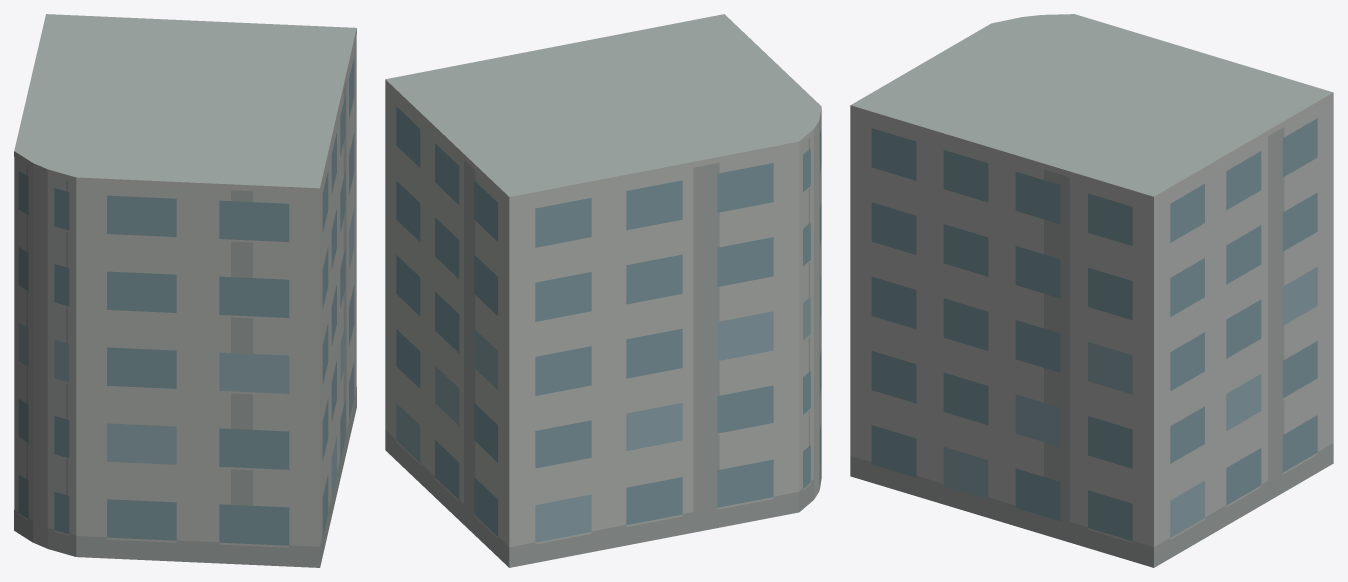
File: survey-upis-32832197.glb
3 renders of one model, left to right at view 1: azimuth 30°, elevation 25°; view 2: azimuth 150°, elevation 25°; view 3: azimuth 270°, elevation 25°, orthographic. The views are drawn at different scales.
Visible parts, largest first — view 1: survey-upis-32832197.tmp; view 2: survey-upis-32832197.tmp; view 3: survey-upis-32832197.tmp.
Boxes of the visible parts, x1,y1,x2,y2 form: survey-upis-32832197.tmp: (14,14,356,567); survey-upis-32832197.tmp: (385,14,821,567); survey-upis-32832197.tmp: (850,14,1333,567).
Size of the model in its own units: 16.38 by 15.5 by 18.29.
